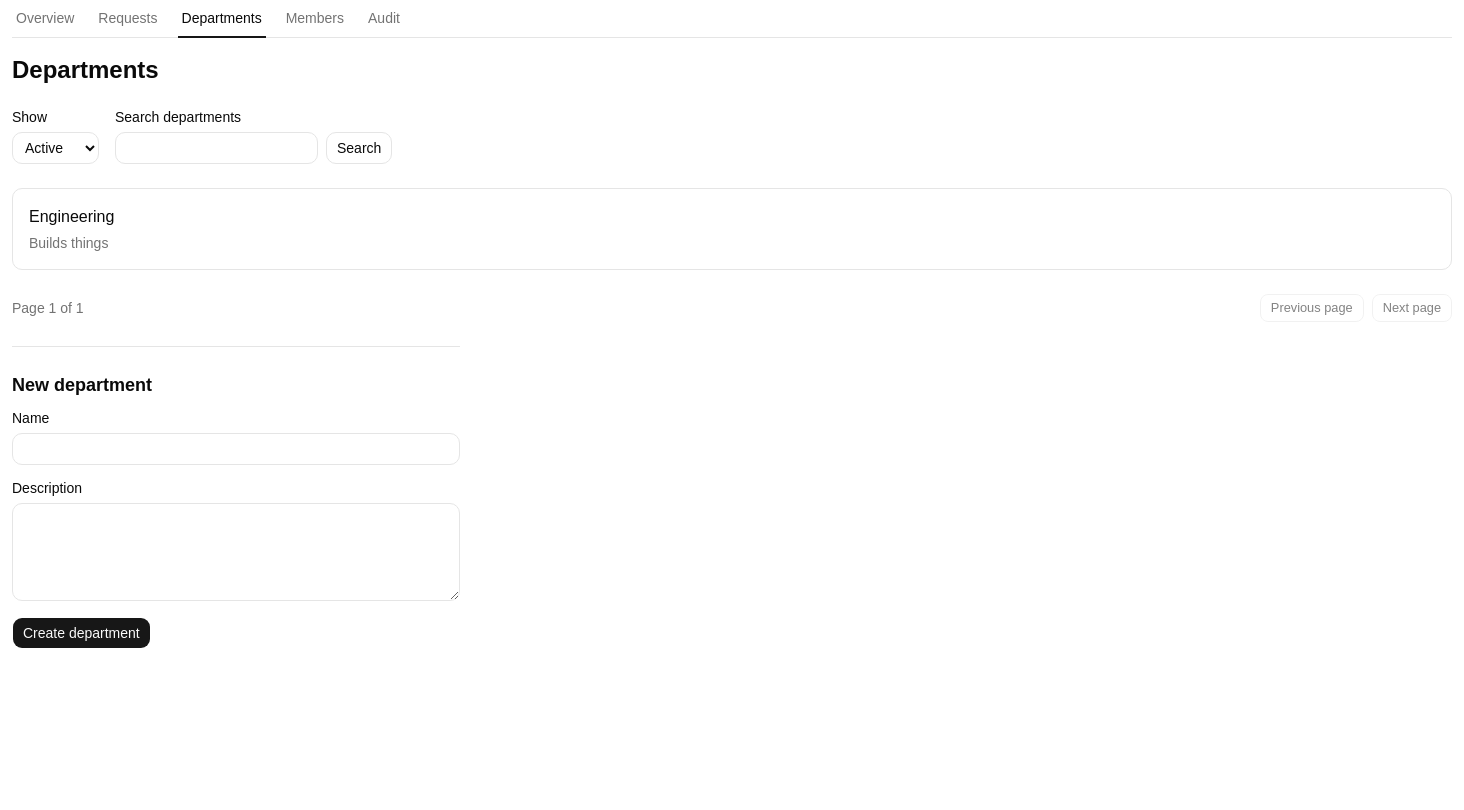
DepartmentsPage › validates the name in the browser
Click the button "Create department". click: (81, 633)
box: [12, 617, 151, 649]
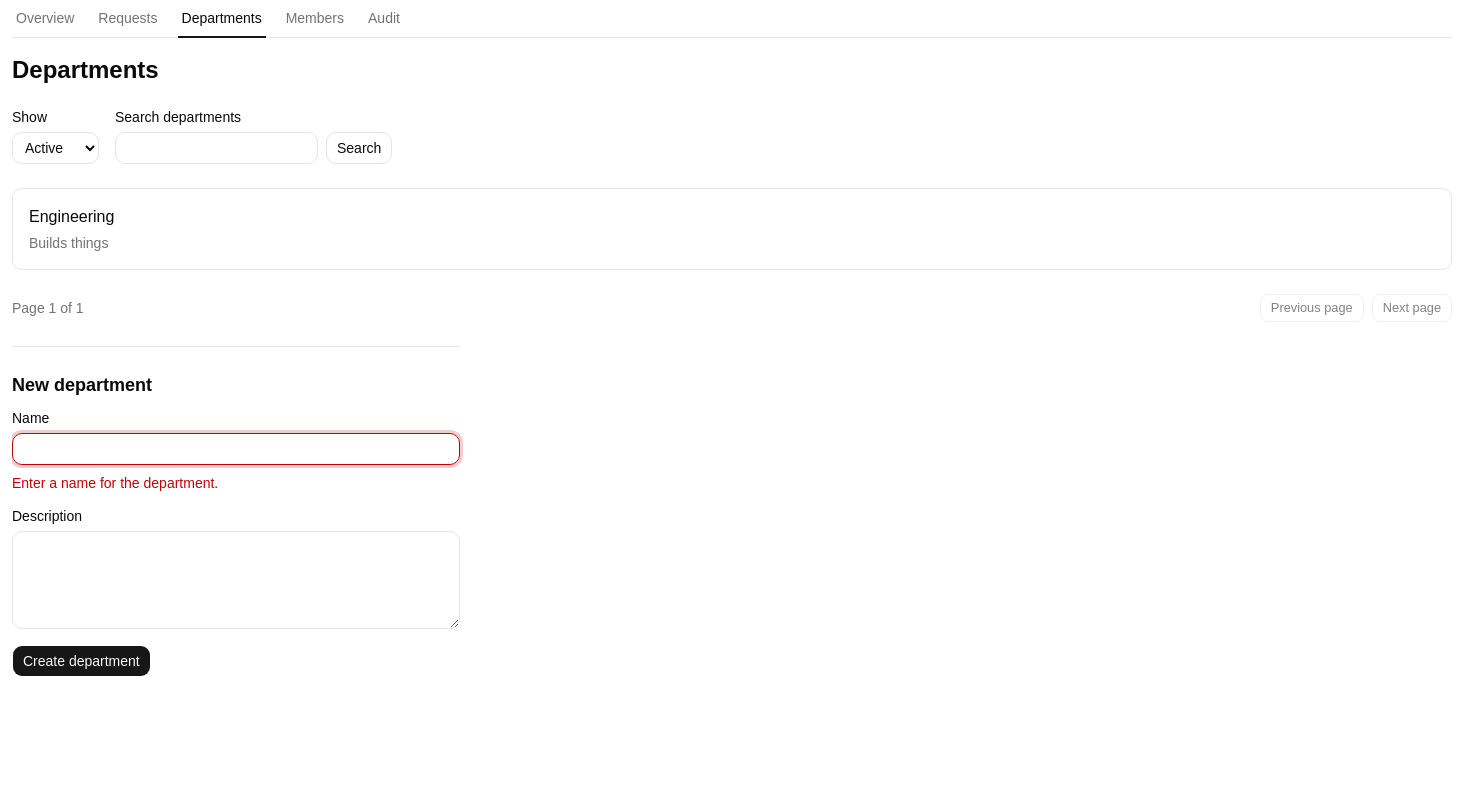
Expected: the text "Enter a name for the department." is shown, [12, 475, 218, 491]
